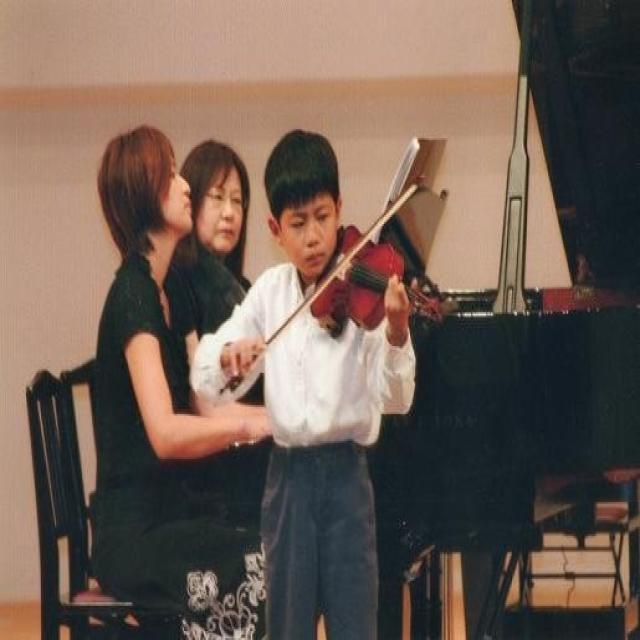violin: (306, 220, 446, 329)
